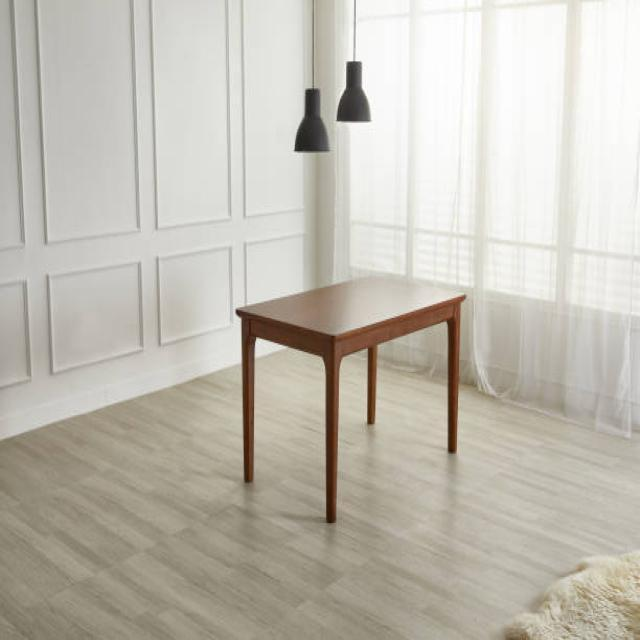table: (234, 272, 466, 524)
